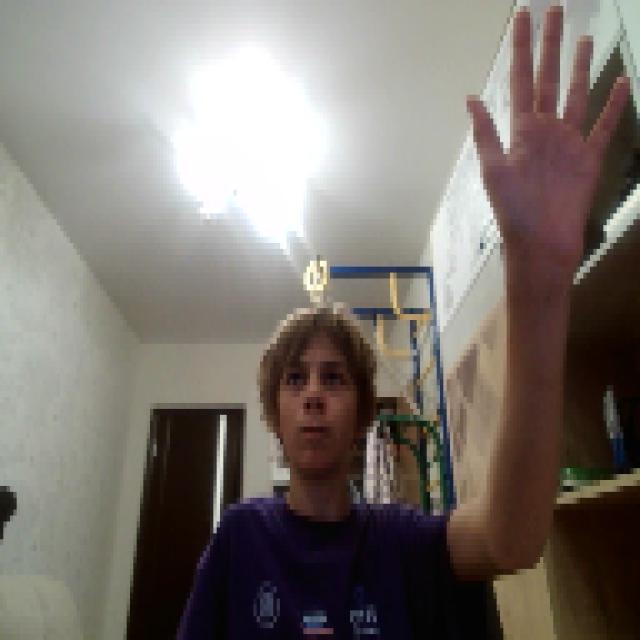hand: (463, 0, 627, 261)
